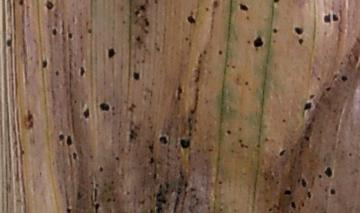tarspot: (181, 11, 200, 26), (102, 44, 118, 60), (251, 32, 265, 50), (79, 105, 93, 122), (176, 137, 194, 150), (322, 163, 334, 181), (97, 100, 112, 114), (237, 1, 252, 15), (319, 10, 332, 25), (157, 133, 171, 146), (75, 64, 87, 79), (300, 100, 315, 112), (39, 56, 50, 72), (291, 24, 307, 35), (65, 130, 74, 149), (130, 70, 143, 83), (337, 72, 350, 85), (298, 175, 309, 190), (48, 25, 60, 38), (5, 35, 15, 50), (69, 148, 79, 162), (288, 197, 298, 211), (295, 35, 306, 47), (44, 1, 57, 11), (302, 131, 312, 144), (331, 10, 339, 25), (91, 201, 101, 213), (327, 186, 338, 196), (282, 186, 293, 196), (223, 126, 234, 136), (271, 25, 280, 37), (55, 131, 65, 141), (64, 31, 75, 40), (216, 47, 225, 58), (276, 148, 286, 157), (51, 70, 62, 78), (64, 205, 74, 213), (16, 1, 27, 8)
